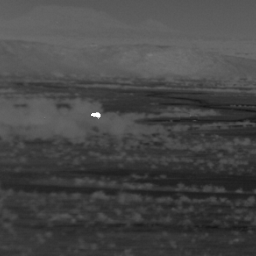Target: (90, 111, 102, 119)
